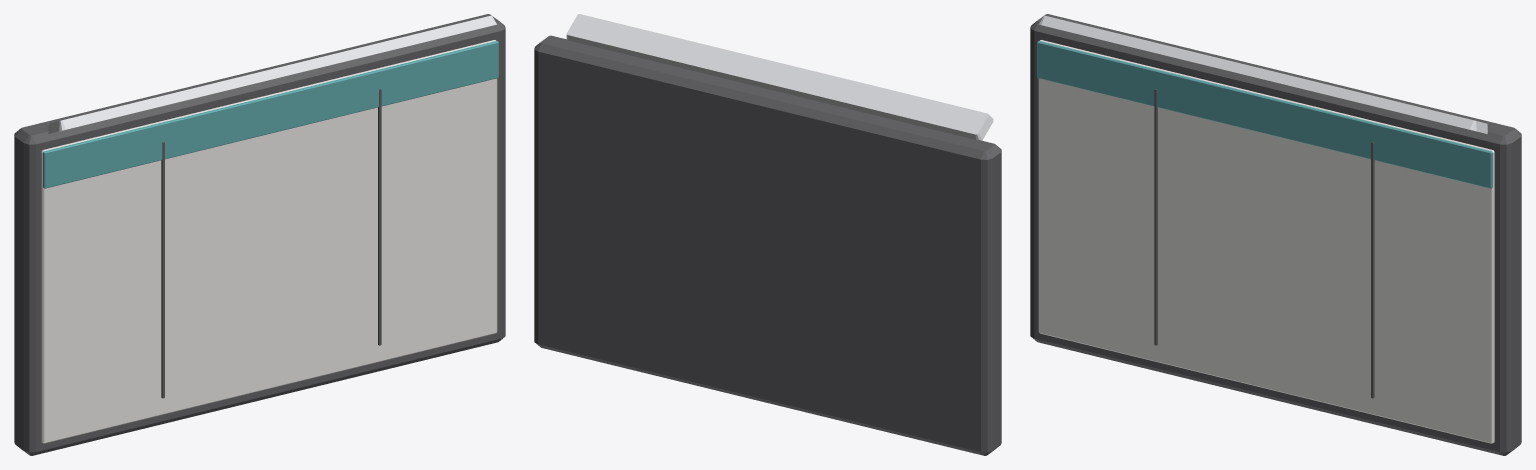
File: fast-food-and-drive-thru-wall-menu-panel-e11b9907__16189.glb
3 renders of one model, left to right at view 1: azimuth 30°, elevation 25°; view 2: azimuth 150°, elevation 25°; view 3: azimuth 330°, elevation 25°, orthographic. The views are drawn at different scales.
Visible parts, largest first — view 1: wall-menu-panel; view 2: wall-menu-panel; view 3: wall-menu-panel.
Part boxes in pixels (x1,y1,x2,y2): wall-menu-panel: (14,14,505,455); wall-menu-panel: (534,14,1001,455); wall-menu-panel: (1030,14,1521,455).
Size of the model in its own units: 1.1 by 0.7414 by 0.1158.
